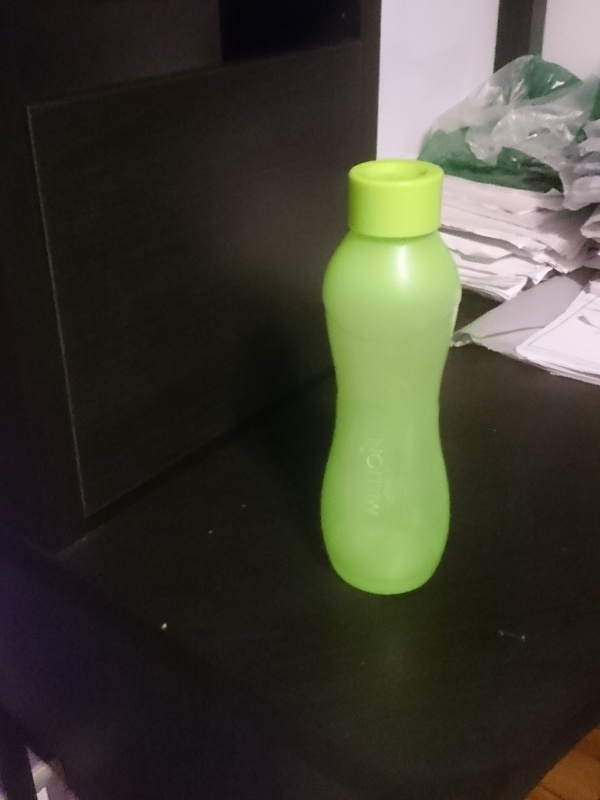my bottle: (318, 162, 462, 596)
